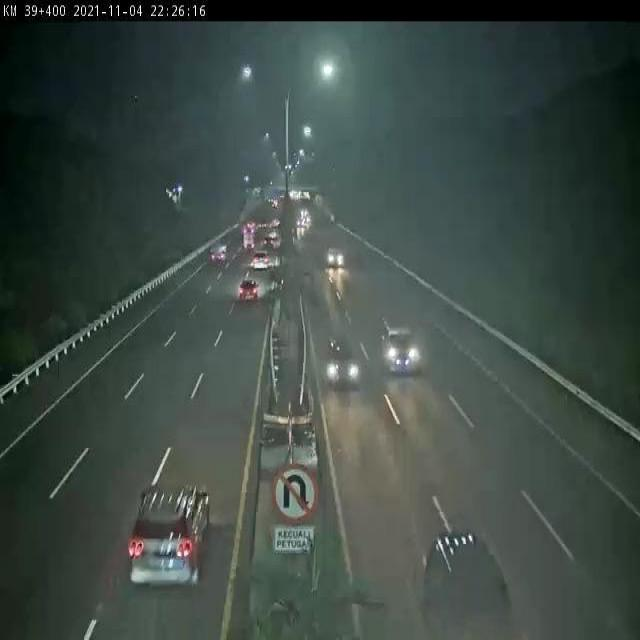car: (428, 516, 517, 632), (132, 468, 210, 591), (379, 322, 438, 382), (326, 333, 360, 398), (228, 272, 264, 312), (325, 240, 344, 279)
